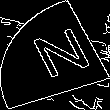N_S: (18, 23, 92, 87)
